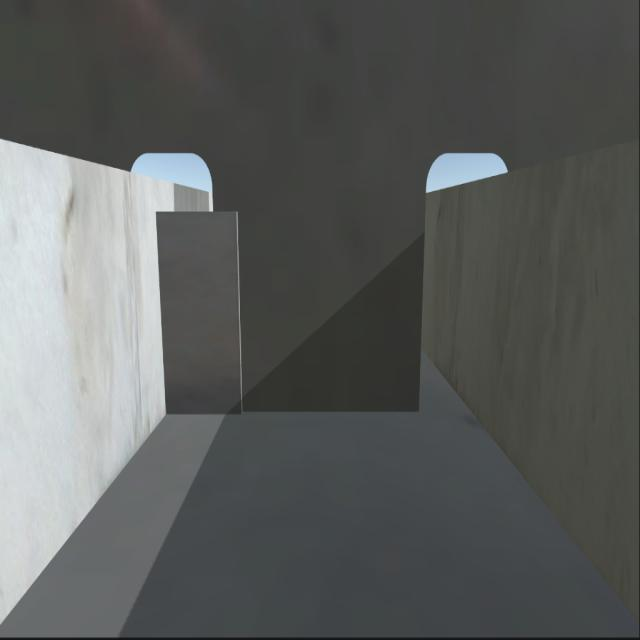fillet_yong_jeop_jang: (161, 400, 424, 421)
longi_yong_jeop_jang: (148, 211, 168, 423)
plate_CP01: (153, 204, 241, 425)
